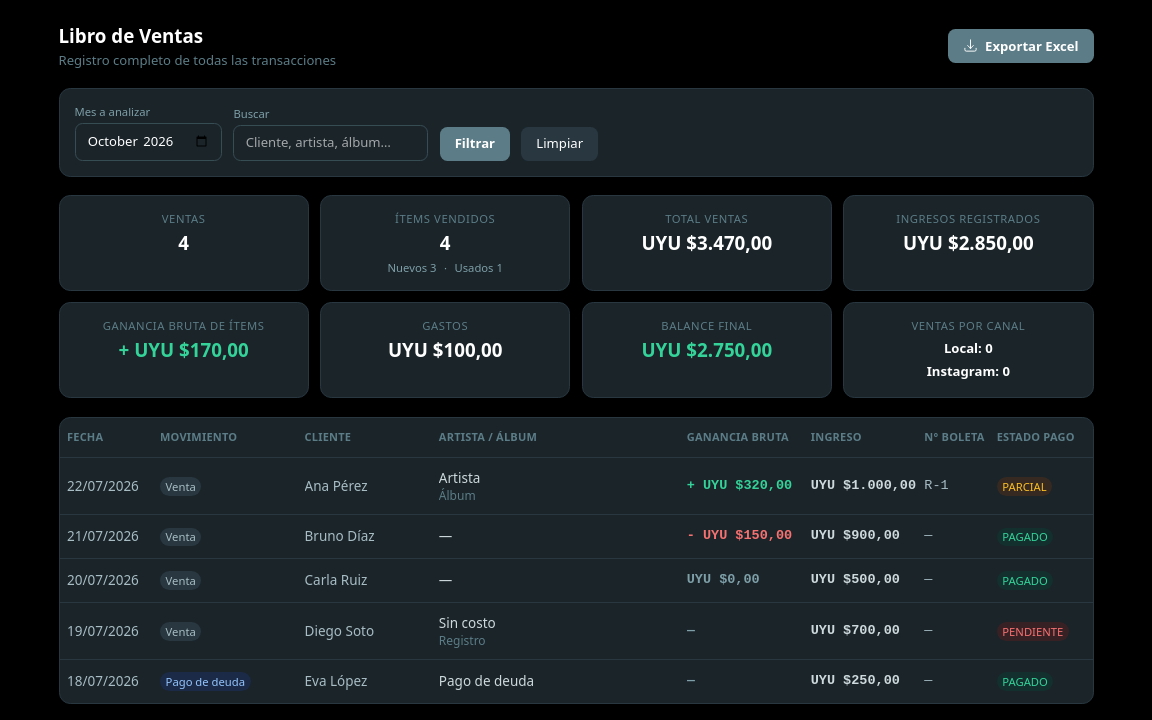
LibroVentas profit display › keeps payment method in details and shows matching sale/item profit including missing cost state
Step 1. Click the 2nd row → (103, 486), box [60,457,1092,515]
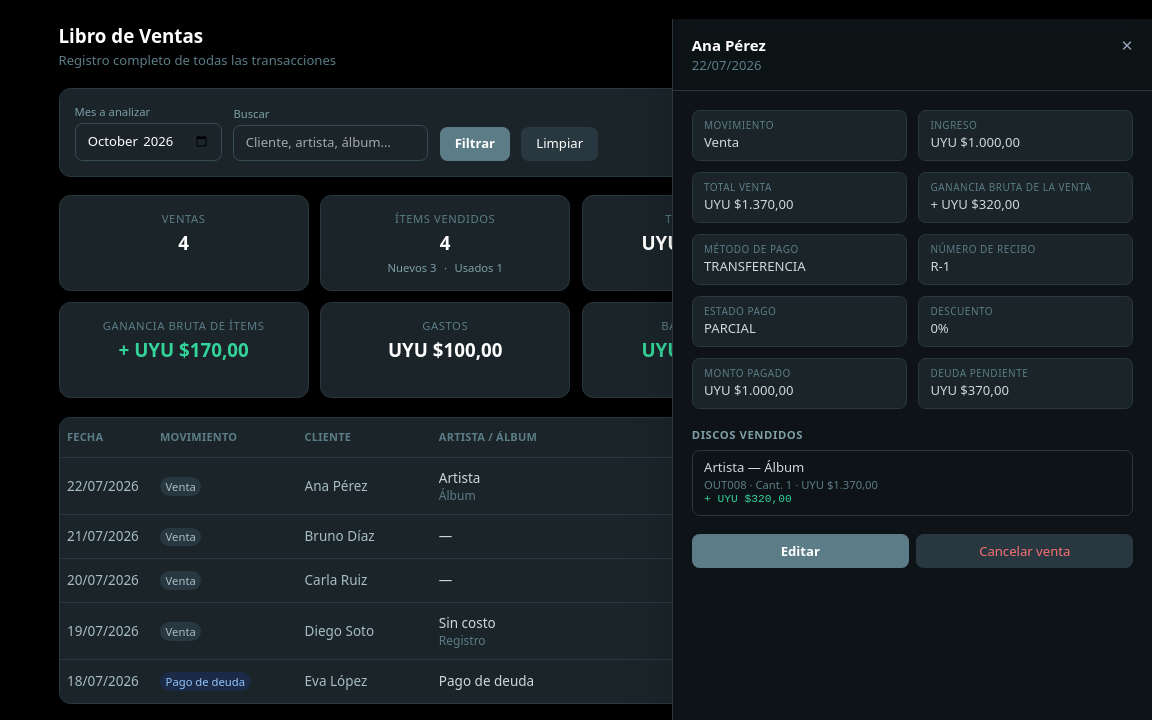
Check: the text "Método de pago" is shown, box [704,242,799,256]
Check: the text "TRANSFERENCIA" is shown, box [704,257,806,275]
Check: the text "OUT008 · Cant. 1 · UYU $1.370,00" is shown, box [704,477,878,492]
Step 2. Click the button "✕" → (1127, 45), box [1121,34,1133,56]
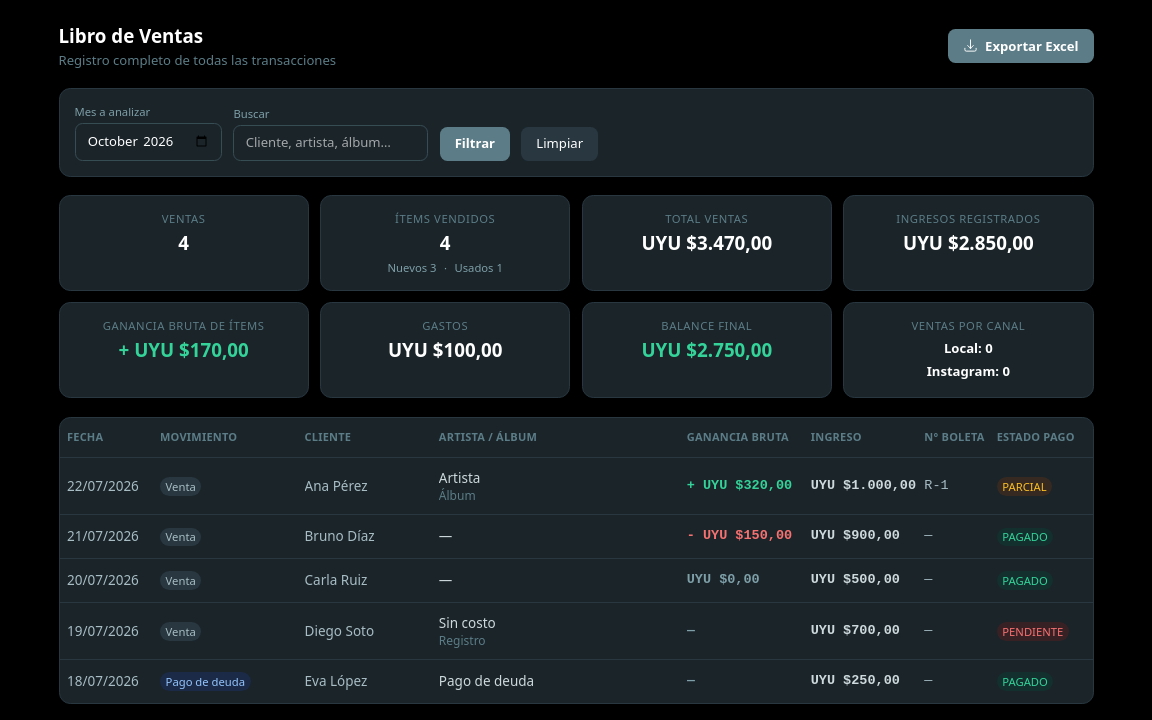
Step 3. Click the 5th row → (576, 631), box [60,602,1092,659]
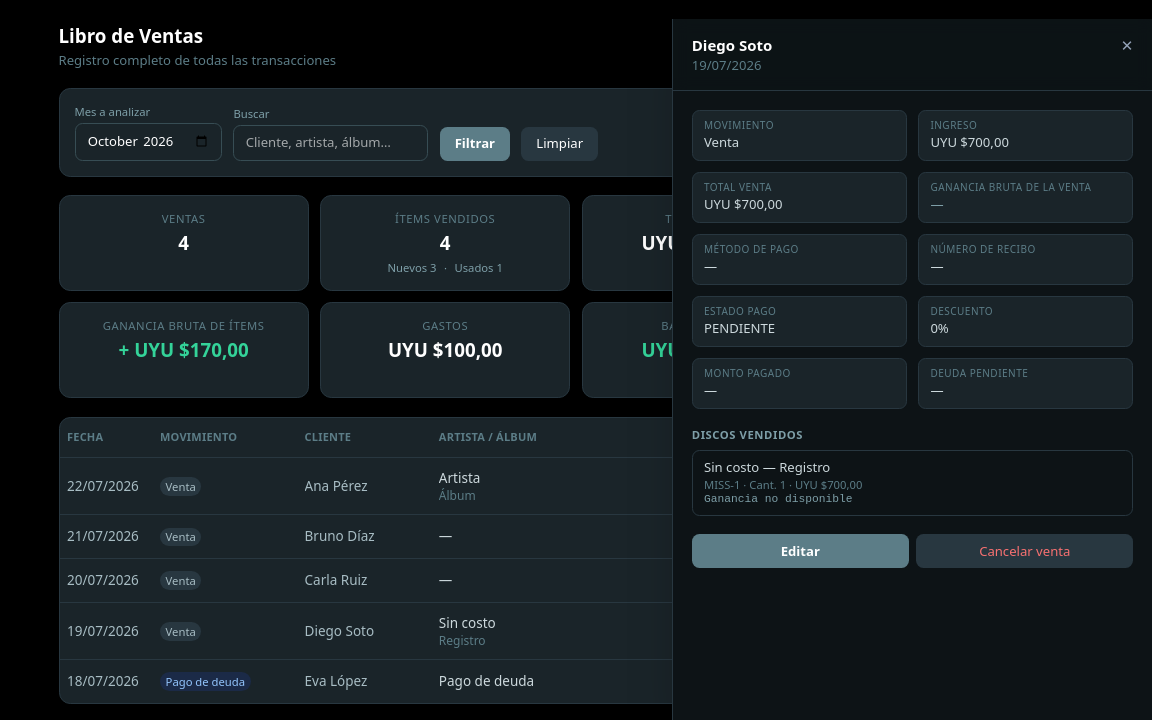
Check: the text "—" in the row of "21/07/2026" is shown, box [439,527,452,545]
Check: the text "Ganancia no disponible" is shown, box [704,493,852,505]
